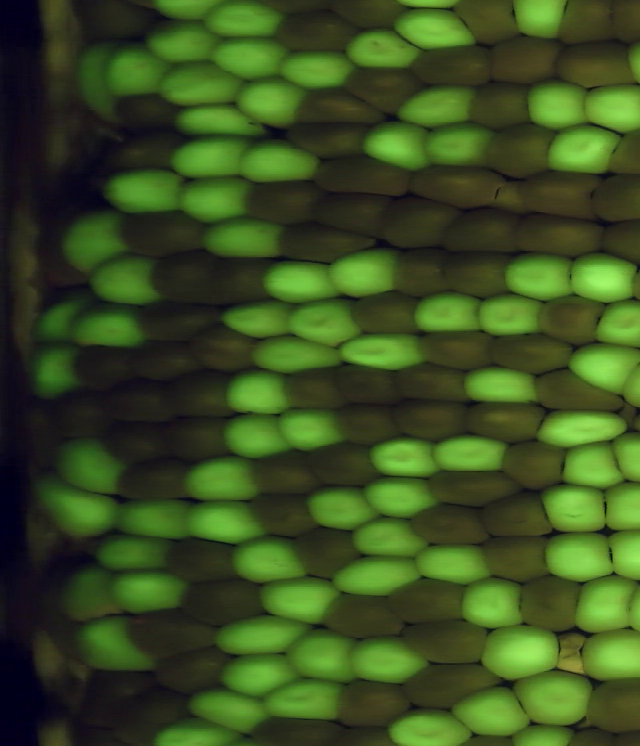fluorescent: (28, 469, 124, 543), (65, 610, 165, 679), (475, 621, 566, 685), (255, 671, 355, 727), (178, 681, 279, 736), (155, 56, 252, 112), (49, 433, 132, 498), (68, 36, 126, 129), (510, 667, 597, 729), (167, 171, 263, 226), (56, 207, 134, 274), (329, 549, 425, 602), (233, 135, 330, 187), (541, 119, 625, 179), (256, 571, 345, 627), (162, 100, 275, 144), (210, 611, 309, 661), (351, 632, 434, 691), (95, 167, 191, 218), (225, 530, 314, 585), (178, 451, 265, 507), (164, 129, 254, 182), (85, 251, 167, 309), (207, 29, 295, 83), (447, 684, 534, 738), (562, 339, 640, 399), (140, 16, 231, 67), (194, 216, 292, 263), (247, 329, 345, 376), (255, 257, 347, 307), (26, 292, 102, 352), (391, 81, 484, 130), (570, 572, 640, 637), (231, 74, 308, 133), (535, 479, 612, 538), (325, 245, 406, 301), (274, 44, 361, 96), (415, 120, 503, 171), (56, 560, 125, 625), (184, 495, 270, 547), (534, 406, 637, 449), (101, 38, 171, 101), (407, 538, 495, 588), (214, 409, 297, 462), (109, 492, 195, 543), (567, 249, 640, 309), (542, 527, 616, 586), (359, 117, 435, 174), (301, 482, 381, 536), (285, 626, 357, 686), (281, 297, 365, 348), (426, 432, 519, 478), (355, 472, 445, 519), (216, 651, 304, 699), (557, 438, 632, 493), (388, 6, 479, 51), (340, 26, 429, 72), (88, 531, 181, 575), (221, 365, 295, 420), (336, 331, 426, 376), (457, 575, 529, 631), (22, 341, 87, 403), (274, 405, 353, 456), (502, 250, 579, 301), (521, 77, 592, 132), (475, 287, 550, 339), (151, 709, 256, 746), (70, 300, 146, 351), (342, 516, 430, 560), (460, 364, 546, 409), (364, 435, 447, 481), (197, 1, 292, 41), (385, 704, 475, 746), (576, 627, 640, 685), (410, 289, 487, 337), (105, 569, 192, 610), (215, 298, 299, 340), (576, 79, 640, 134), (507, 1, 572, 43), (589, 297, 640, 350), (597, 480, 640, 535), (601, 524, 640, 584), (148, 1, 239, 26), (609, 429, 640, 487), (508, 720, 577, 746)
nonfluorescent: (395, 658, 514, 713), (39, 553, 91, 674), (121, 604, 223, 665), (399, 160, 515, 213), (375, 191, 468, 254), (505, 167, 605, 224), (529, 365, 634, 418), (113, 208, 214, 263), (433, 203, 527, 260), (508, 208, 609, 261), (275, 220, 383, 268), (480, 119, 563, 181), (307, 149, 415, 196), (378, 574, 471, 628), (397, 618, 495, 669), (145, 247, 225, 309), (315, 590, 412, 641), (33, 214, 93, 296), (81, 665, 155, 731), (341, 63, 431, 116), (172, 579, 266, 629), (330, 675, 417, 729), (148, 641, 235, 695), (473, 529, 551, 589), (551, 39, 640, 91), (242, 176, 329, 229), (484, 328, 579, 376), (316, 184, 394, 242), (162, 532, 245, 586), (485, 31, 565, 86), (475, 488, 555, 543), (126, 335, 209, 388), (272, 7, 358, 58), (75, 1, 166, 49), (385, 394, 470, 445), (287, 523, 362, 580), (392, 360, 477, 410), (246, 445, 323, 500), (178, 324, 261, 375), (403, 501, 491, 549), (513, 573, 580, 636), (461, 399, 547, 448), (306, 439, 384, 493), (163, 409, 238, 465), (345, 286, 424, 339), (331, 358, 407, 413), (288, 86, 385, 129), (136, 297, 221, 346), (408, 42, 496, 89), (436, 246, 514, 299), (535, 294, 610, 349), (277, 361, 352, 416), (111, 458, 198, 505), (495, 438, 568, 494), (425, 468, 524, 509), (412, 325, 495, 373), (245, 491, 323, 542), (127, 684, 199, 739), (103, 378, 180, 429), (462, 77, 530, 134), (101, 130, 189, 174), (271, 119, 366, 159), (327, 401, 406, 449), (49, 384, 113, 442), (101, 419, 175, 469), (167, 369, 235, 423), (237, 711, 340, 746), (112, 92, 189, 138), (452, 1, 522, 51), (67, 342, 137, 392), (582, 677, 640, 737), (209, 254, 275, 306), (388, 246, 449, 301), (553, 1, 620, 50), (23, 397, 64, 473), (324, 1, 409, 34), (591, 169, 640, 226), (594, 215, 640, 267), (605, 124, 640, 179), (325, 723, 403, 746), (606, 1, 640, 49)
